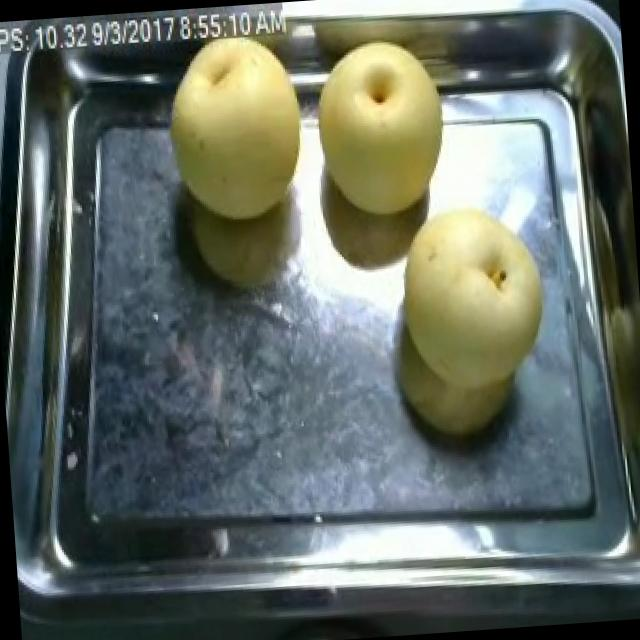Fruit: (376, 188, 566, 457), (150, 18, 323, 236), (298, 25, 463, 229)
